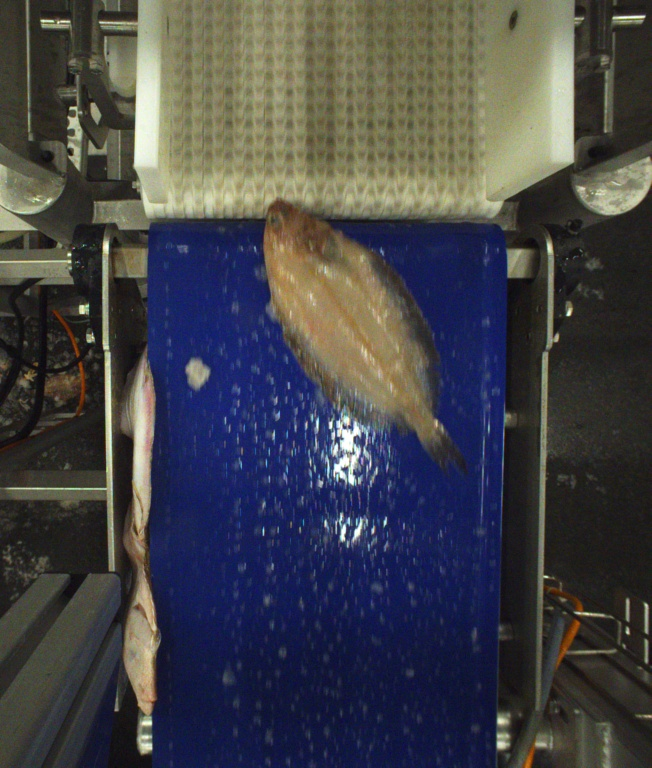WIT: (263, 199, 470, 478)
